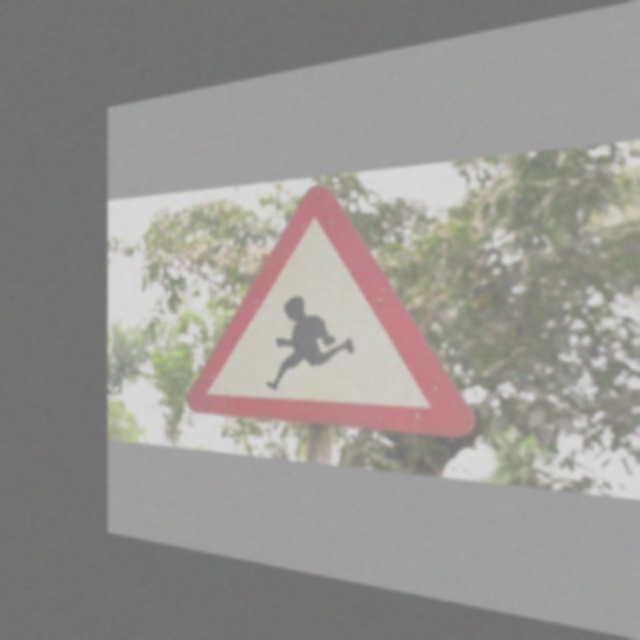School_Ahead: (195, 172, 471, 437)
